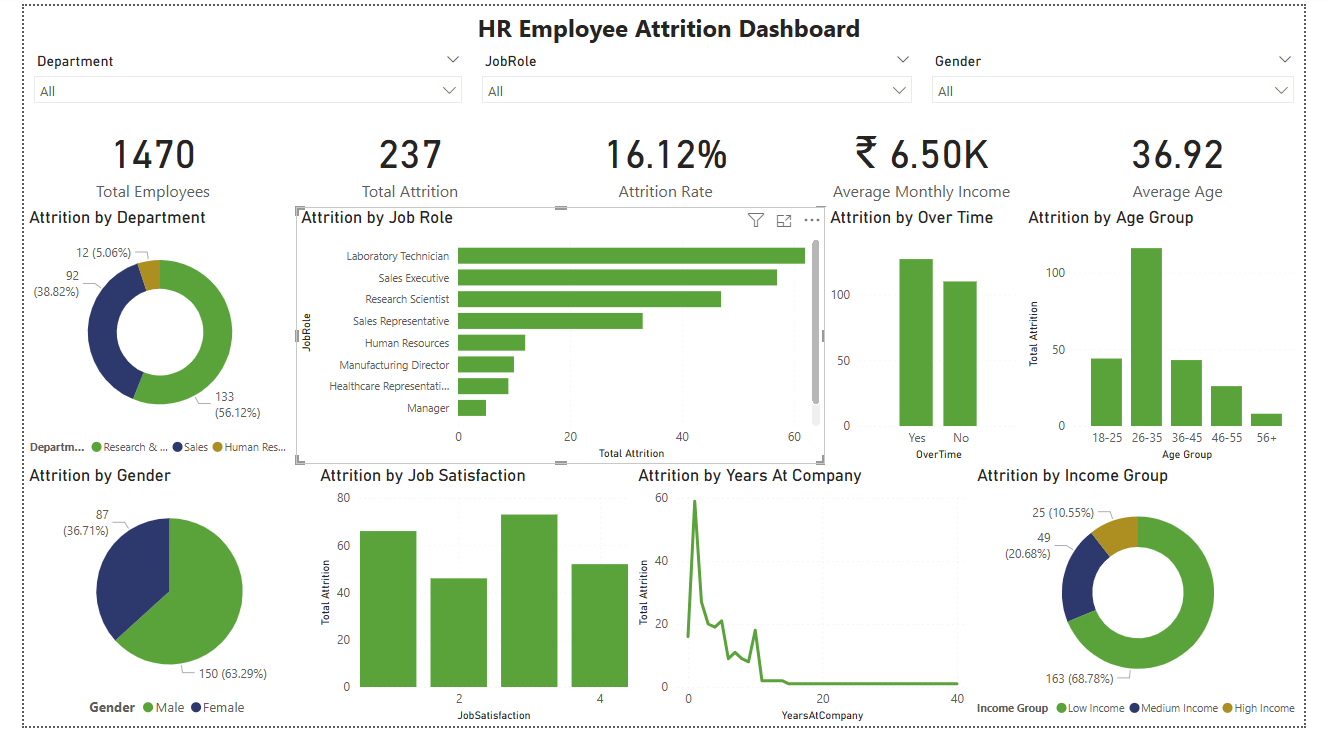

Layout of this report page (visuals, bound fields, positions):
{"tool":"powerbi","page":{"name":"Page 1","canvas":[1280,720],"ordinal":0},"visuals":[{"type":"textbox","box":[9.7,0,1270.3,41.8],"z":0},{"type":"card","fields":{"Values":["hr_employee_attrition_cleaned.Total Employees"]},"box":[0.9,108.4,256.1,93.1],"z":1000},{"type":"card","fields":{"Values":["hr_employee_attrition_cleaned.Total Attrition"]},"box":[257,108.4,257.9,93.1],"z":2000},{"type":"card","fields":{"Values":["hr_employee_attrition_cleaned.Attrition Rate"]},"box":[514.9,108.4,253.4,93.1],"z":3000},{"type":"card","fields":{"Values":["hr_employee_attrition_cleaned.Average Monthly Income"]},"box":[768.4,108.4,258.8,93.1],"z":4000},{"type":"card","fields":{"Values":["hr_employee_attrition_cleaned.Average Age"]},"box":[1027.2,108.4,252.5,93.1],"z":5000},{"type":"donutChart","title":"Attrition by Department","fields":{"Category":["hr_employee_attrition_cleaned.Department"],"Y":["hr_employee_attrition_cleaned.Total Attrition"]},"box":[0,201.5,272.2,257.9],"z":6000},{"type":"clusteredBarChart","title":"Attrition by Job Role","fields":{"Category":["hr_employee_attrition_cleaned.JobRole"],"Y":["hr_employee_attrition_cleaned.Total Attrition"]},"box":[272.2,201.5,528.4,257],"z":7000},{"type":"columnChart","title":"Attrition by Over Time","fields":{"Category":["hr_employee_attrition_cleaned.OverTime"],"Y":["hr_employee_attrition_cleaned.Total Attrition"]},"box":[800.6,201.5,198.8,257.9],"z":8000},{"type":"columnChart","title":"Attrition by Age Group","fields":{"Category":["hr_employee_attrition_cleaned.Age Group"],"Y":["hr_employee_attrition_cleaned.Total Attrition"]},"box":[999.4,201.5,280.3,257.9],"z":9000},{"type":"pieChart","title":"Attrition by Gender","fields":{"Category":["hr_employee_attrition_cleaned.Gender"],"Y":["hr_employee_attrition_cleaned.Total Attrition"]},"box":[0,459.4,291,260.6],"z":10000},{"type":"columnChart","title":"Attrition by Job Satisfaction","fields":{"Y":["hr_employee_attrition_cleaned.Total Attrition"],"Category":["hr_employee_attrition_cleaned.JobSatisfaction"]},"box":[291,459.4,317.9,260.6],"z":11000},{"type":"lineChart","title":"Attrition by Years At Company","fields":{"Category":["hr_employee_attrition_cleaned.YearsAtCompany"],"Y":["hr_employee_attrition_cleaned.Total Attrition"]},"box":[609,459.4,339.4,260.6],"z":12000},{"type":"donutChart","title":"Attrition by Income Group","fields":{"Y":["hr_employee_attrition_cleaned.Total Attrition"],"Category":["hr_employee_attrition_cleaned.Income Group"]},"box":[948.4,459.4,331.3,260.6],"z":13000},{"type":"slicer","fields":{"Values":["hr_employee_attrition_cleaned.Department"]},"box":[0,42.1,447.8,66.3],"z":14000},{"type":"slicer","fields":{"Values":["hr_employee_attrition_cleaned.Gender"]},"box":[898.2,42.1,381.5,66.3],"z":15000},{"type":"slicer","fields":{"Values":["hr_employee_attrition_cleaned.JobRole"]},"box":[447.8,42.1,450.4,67.2],"z":16000}]}

Visuals, with their boxes in screenshot pixels (x1, y1, x2, y2), scaled from the page's 1280x720 canvas onto the 1328x744 screenshot:
textbox: Rect(10, 0, 1327, 43)
card - hr_employee_attrition_cleaned.Total Employees: Rect(1, 112, 267, 208)
card - hr_employee_attrition_cleaned.Total Attrition: Rect(267, 112, 534, 208)
card - hr_employee_attrition_cleaned.Attrition Rate: Rect(534, 112, 797, 208)
card - hr_employee_attrition_cleaned.Average Monthly Income: Rect(797, 112, 1066, 208)
card - hr_employee_attrition_cleaned.Average Age: Rect(1066, 112, 1327, 208)
"Attrition by Department" donutChart: Rect(0, 208, 282, 475)
"Attrition by Job Role" clusteredBarChart: Rect(282, 208, 831, 474)
"Attrition by Over Time" columnChart: Rect(831, 208, 1037, 475)
"Attrition by Age Group" columnChart: Rect(1037, 208, 1327, 475)
"Attrition by Gender" pieChart: Rect(0, 475, 302, 743)
"Attrition by Job Satisfaction" columnChart: Rect(302, 475, 632, 743)
"Attrition by Years At Company" lineChart: Rect(632, 475, 984, 743)
"Attrition by Income Group" donutChart: Rect(984, 475, 1327, 743)
slicer - hr_employee_attrition_cleaned.Department: Rect(0, 44, 465, 112)
slicer - hr_employee_attrition_cleaned.Gender: Rect(932, 44, 1327, 112)
slicer - hr_employee_attrition_cleaned.JobRole: Rect(465, 44, 932, 113)
